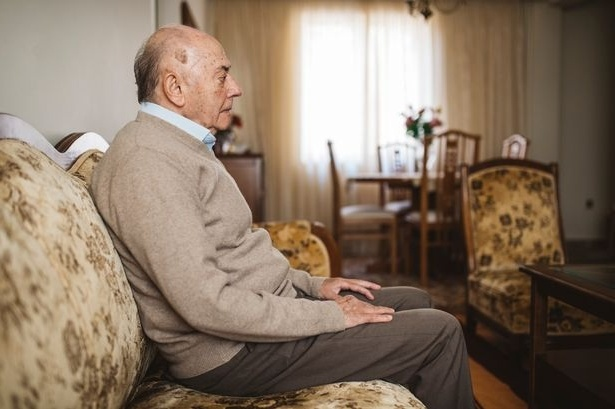not_fallen: (88, 21, 491, 409)
